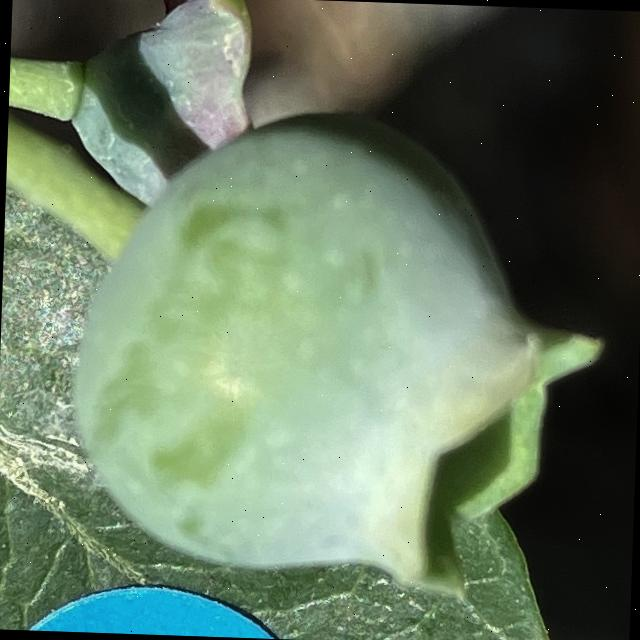Blueberries: (59, 96, 611, 596)
